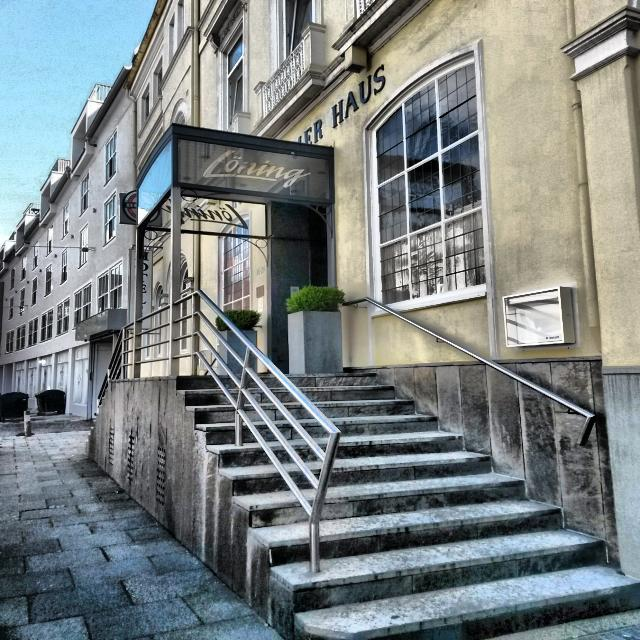escada: (169, 369, 639, 640)
